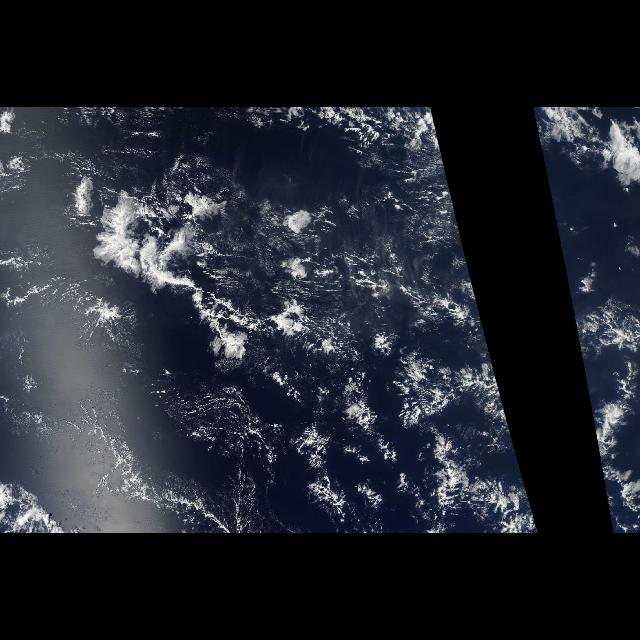Fish: (372, 322, 514, 438)
